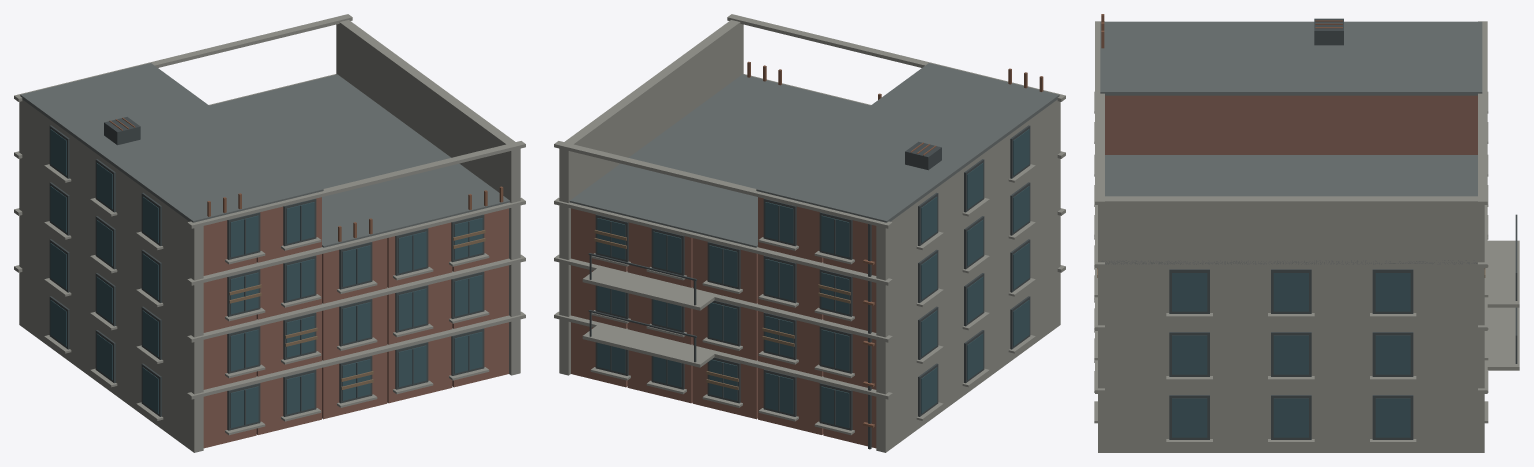
Rendered from Ville_Batiment_12.fbx.
3 views of the same model, side by side, from view 1: azimuth 30°, elevation 25°; view 2: azimuth 150°, elevation 25°; view 3: azimuth 270°, elevation 25° (orthographic). The views are drawn at different scales.
Visible parts, largest first — view 1: Ville_Batiment_12_concrete, Ville_Batiment_12_concrete_dark, Ville_Batiment_12_brick, Ville_Batiment_12_glass, Ville_Batiment_12_iron, Ville_Batiment_12_wood, Ville_Batiment_12_rust; view 2: Ville_Batiment_12_concrete, Ville_Batiment_12_concrete_dark, Ville_Batiment_12_brick, Ville_Batiment_12_glass, Ville_Batiment_12_iron, Ville_Batiment_12_wood, Ville_Batiment_12_rust; view 3: Ville_Batiment_12_concrete, Ville_Batiment_12_concrete_dark, Ville_Batiment_12_brick, Ville_Batiment_12_glass, Ville_Batiment_12_iron.
Boxes of the visible parts, left/top/right/bottom form: Ville_Batiment_12_concrete: left=14, top=14, right=525, bottom=452; Ville_Batiment_12_concrete_dark: left=20, top=63, right=510, bottom=247; Ville_Batiment_12_brick: left=203, top=197, right=508, bottom=448; Ville_Batiment_12_glass: left=50, top=129, right=482, bottom=428; Ville_Batiment_12_iron: left=49, top=117, right=484, bottom=430; Ville_Batiment_12_wood: left=229, top=230, right=485, bottom=389; Ville_Batiment_12_rust: left=109, top=117, right=503, bottom=241; Ville_Batiment_12_concrete: left=554, top=14, right=1065, bottom=452; Ville_Batiment_12_concrete_dark: left=569, top=63, right=1059, bottom=247; Ville_Batiment_12_brick: left=571, top=197, right=876, bottom=448; Ville_Batiment_12_glass: left=597, top=129, right=1029, bottom=428; Ville_Batiment_12_iron: left=588, top=125, right=1030, bottom=449; Ville_Batiment_12_wood: left=594, top=230, right=850, bottom=389; Ville_Batiment_12_rust: left=747, top=61, right=1043, bottom=427; Ville_Batiment_12_concrete: left=1094, top=21, right=1519, bottom=452; Ville_Batiment_12_concrete_dark: left=1100, top=21, right=1482, bottom=264; Ville_Batiment_12_brick: left=1105, top=95, right=1477, bottom=154; Ville_Batiment_12_glass: left=1172, top=273, right=1410, bottom=437; Ville_Batiment_12_iron: left=1169, top=18, right=1517, bottom=439.
Size of the model in its own units: 43.56 by 30.2 by 42.85.
